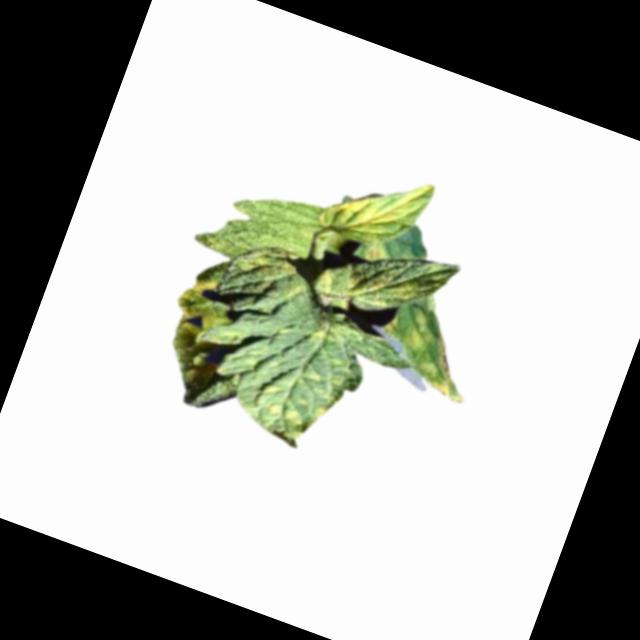Leaf_Mold: (366, 281, 498, 407), (318, 152, 438, 262), (315, 248, 417, 321), (242, 376, 332, 454), (167, 269, 233, 343)
